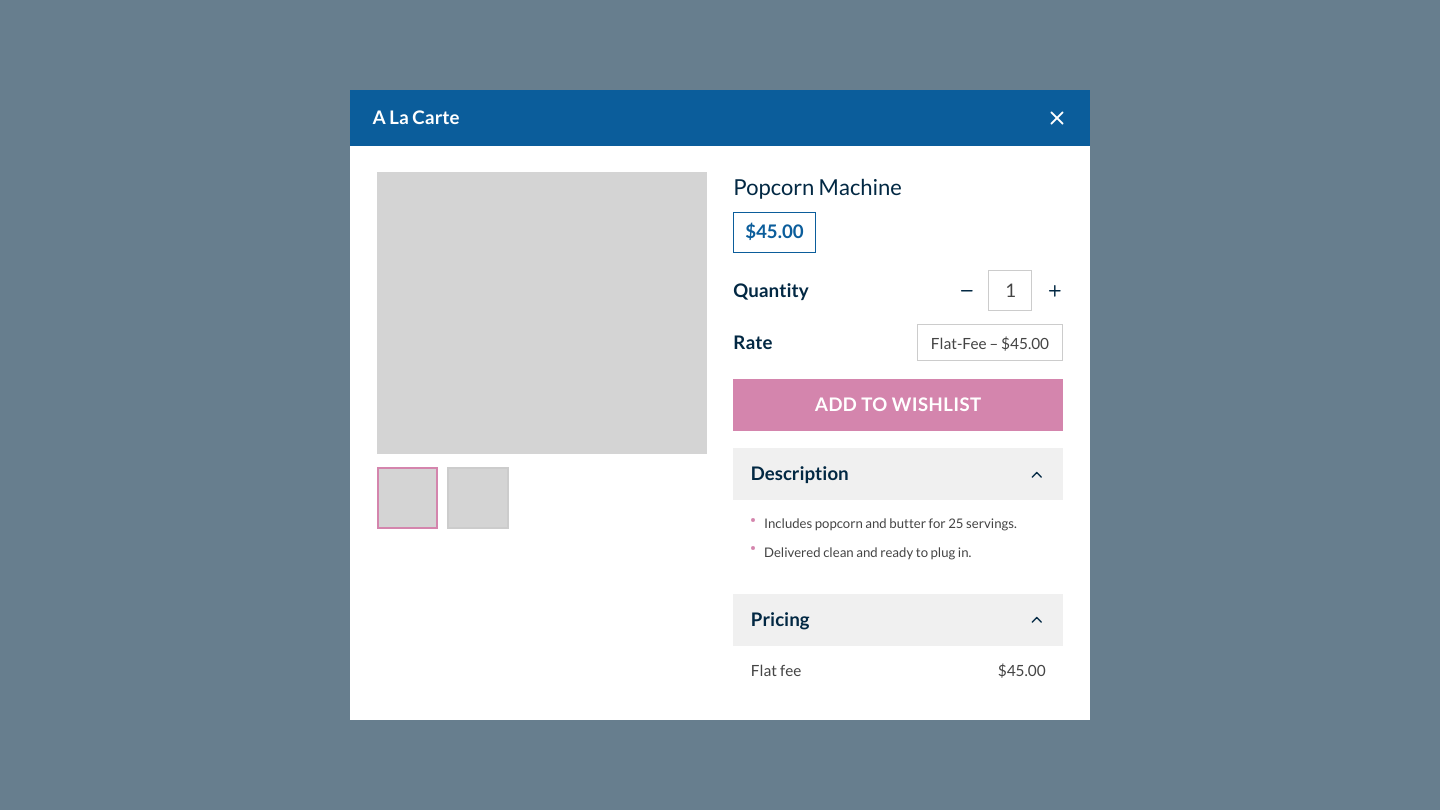
Scenario: CatalogItemModal › removes the item entirely when Remove From Wishlist is clicked
Click the button "Add To Wishlist": (898, 405) [733,379,1063,431]
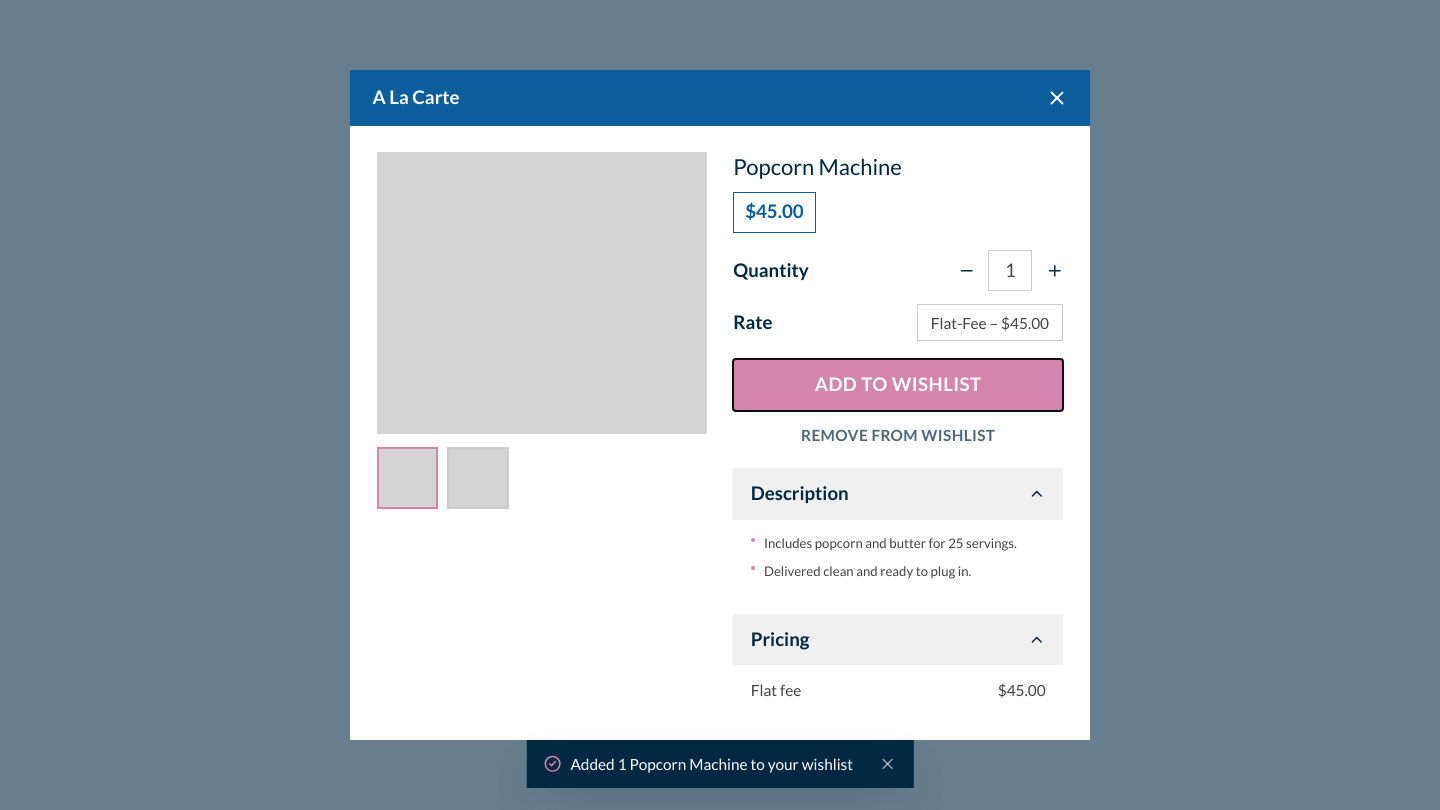
Click the button "Remove From Wishlist": (898, 435) [733,420,1063,451]
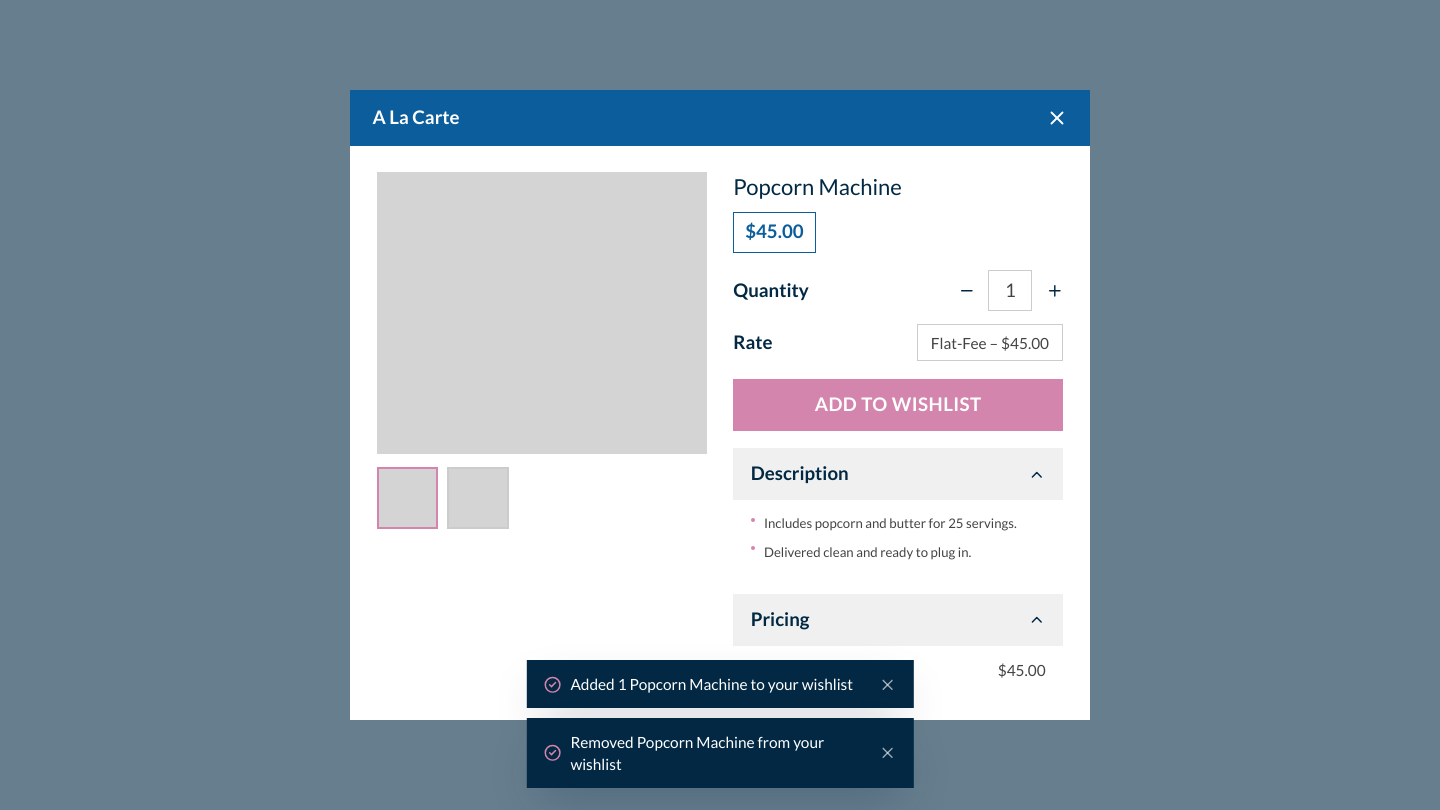
Result: the button "Remove From Wishlist" is gone
